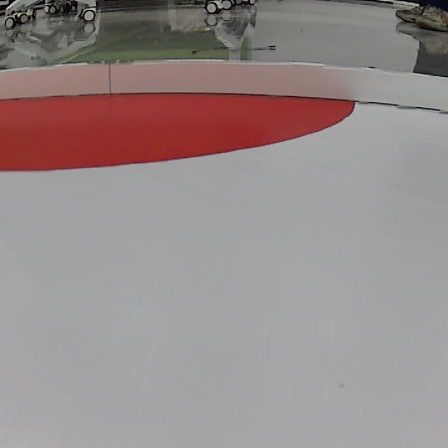red_base: (2, 90, 363, 182)
